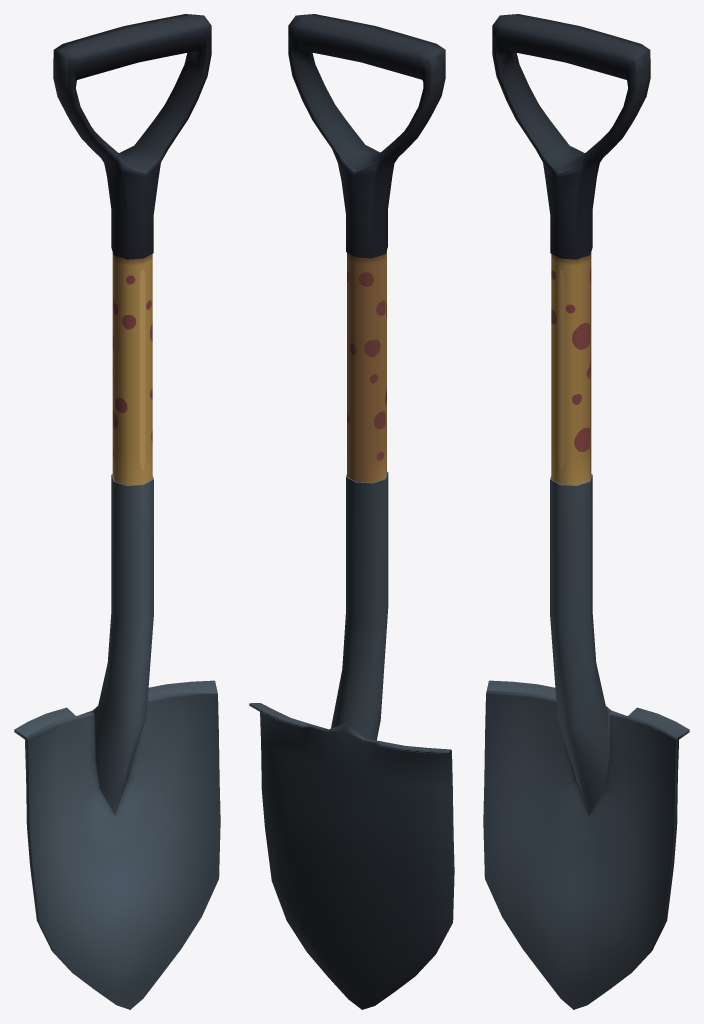
File: shovel.glb
3 renders of one model, left to right at view 1: azimuth 30°, elevation 25°; view 2: azimuth 150°, elevation 25°; view 3: azimuth 330°, elevation 25°, orthographic.
Visible parts, largest first — view 1: shovel; view 2: shovel; view 3: shovel.
Boxes of the visible parts, box(x1,y1,x2,y2) form: shovel: box(14, 14, 220, 1009); shovel: box(249, 14, 454, 1009); shovel: box(483, 14, 689, 1009).
Size of the model in its own units: 0.1054 by 0.4938 by 0.0368.
1 material, 1 textured.
